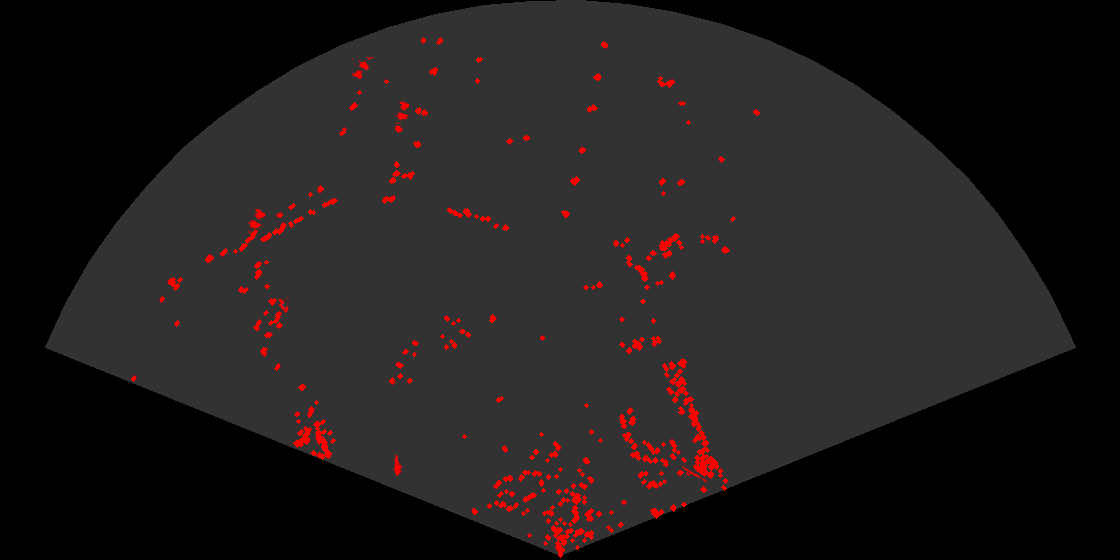AUV: (277, 296, 289, 312)
cage: (350, 57, 375, 81), (248, 207, 268, 233), (394, 100, 412, 124)
chain: (680, 464, 708, 484)
frogman: (392, 453, 404, 476)
